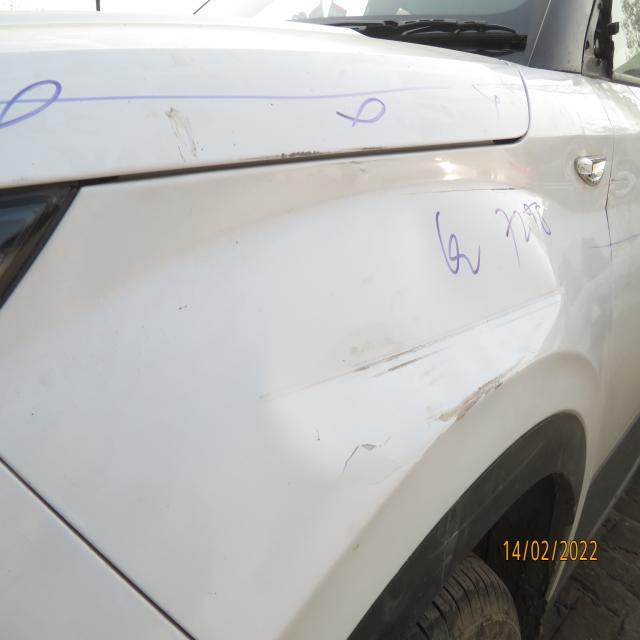damage: (323, 285, 566, 485), (392, 171, 537, 208), (524, 188, 572, 294)
